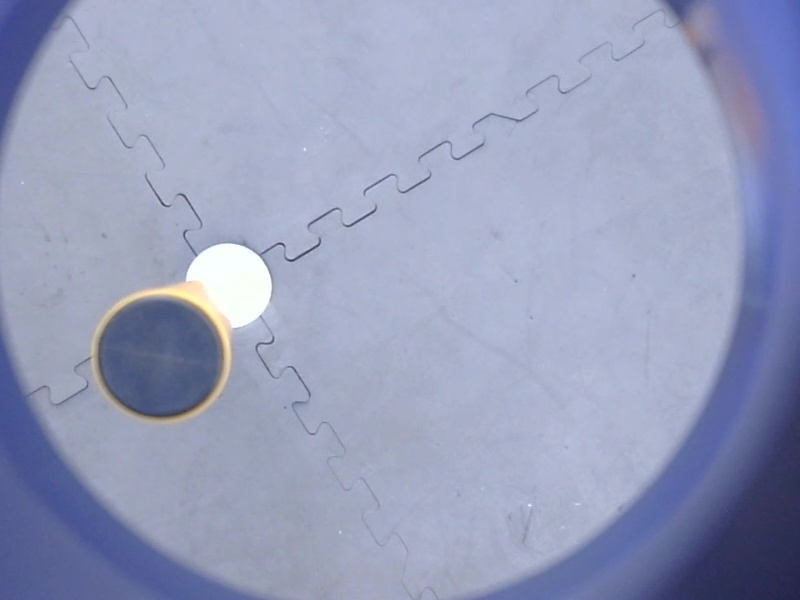tip: (83, 282, 241, 434)
